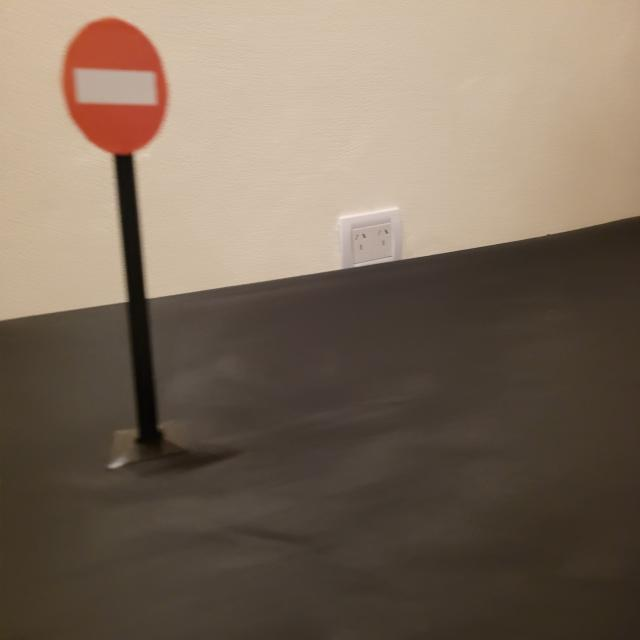no_entry: (60, 15, 169, 155)
